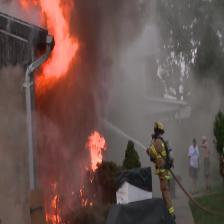fire: (18, 0, 94, 105), (43, 124, 118, 224)
smoke: (90, 0, 224, 122)
